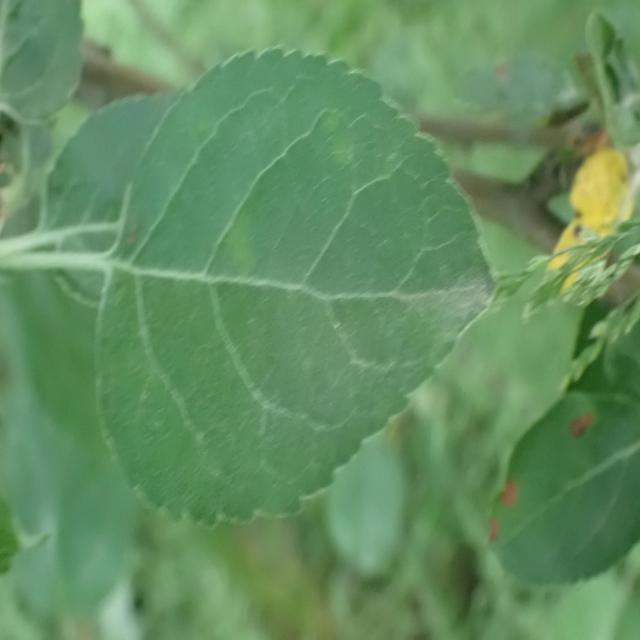scab: (121, 103, 436, 341)
